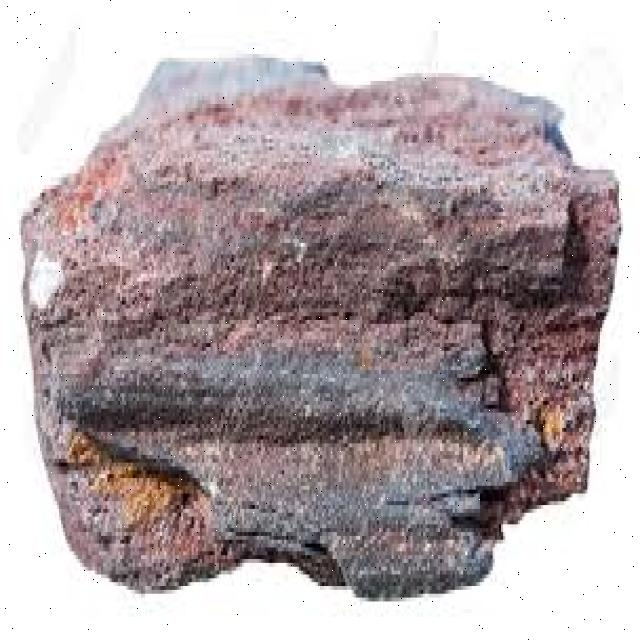Metamorphic: (8, 47, 621, 606)
